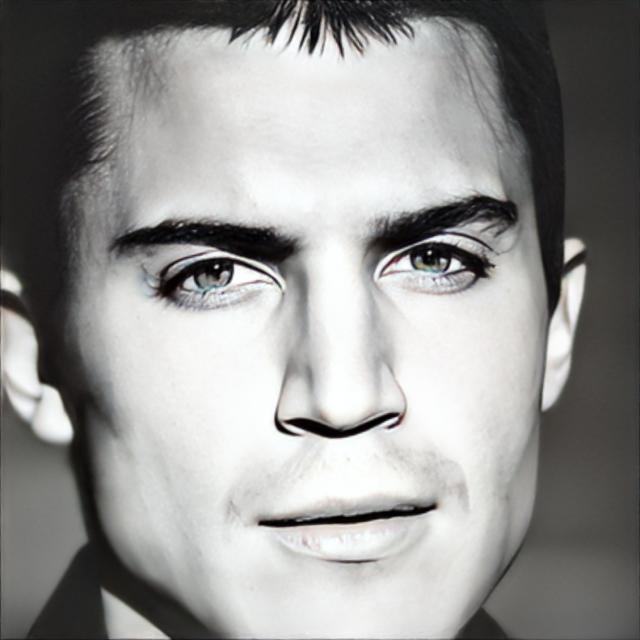content: (65, 12, 545, 640)
